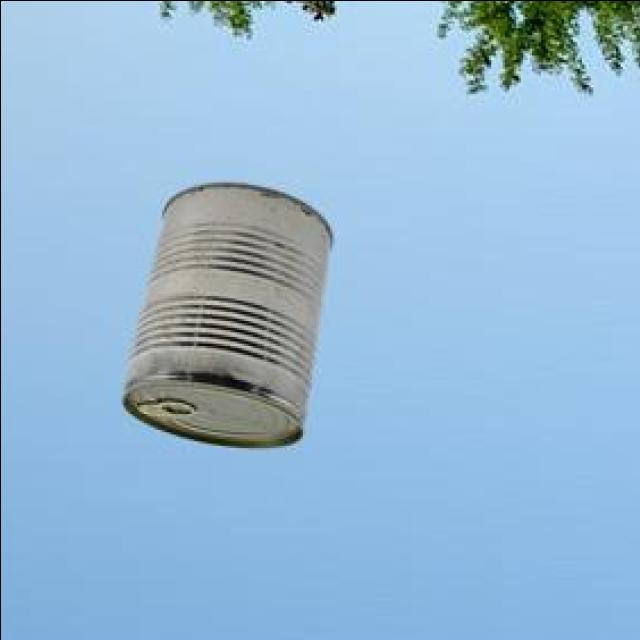logam: (119, 185, 328, 450)
